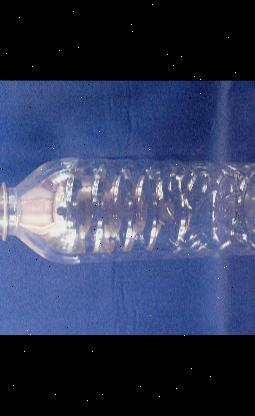Plastic Bottle: (0, 156, 255, 264)
